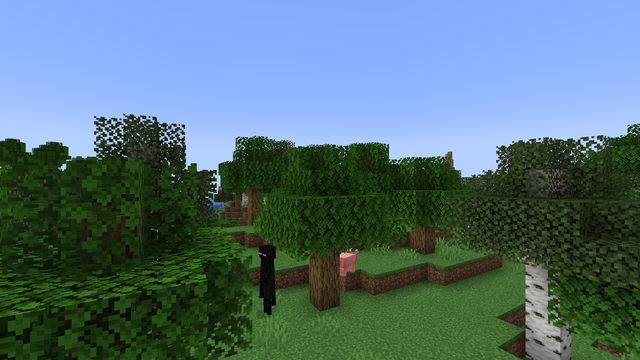cochons: (339, 253, 356, 276)
endermens: (258, 242, 276, 317)
